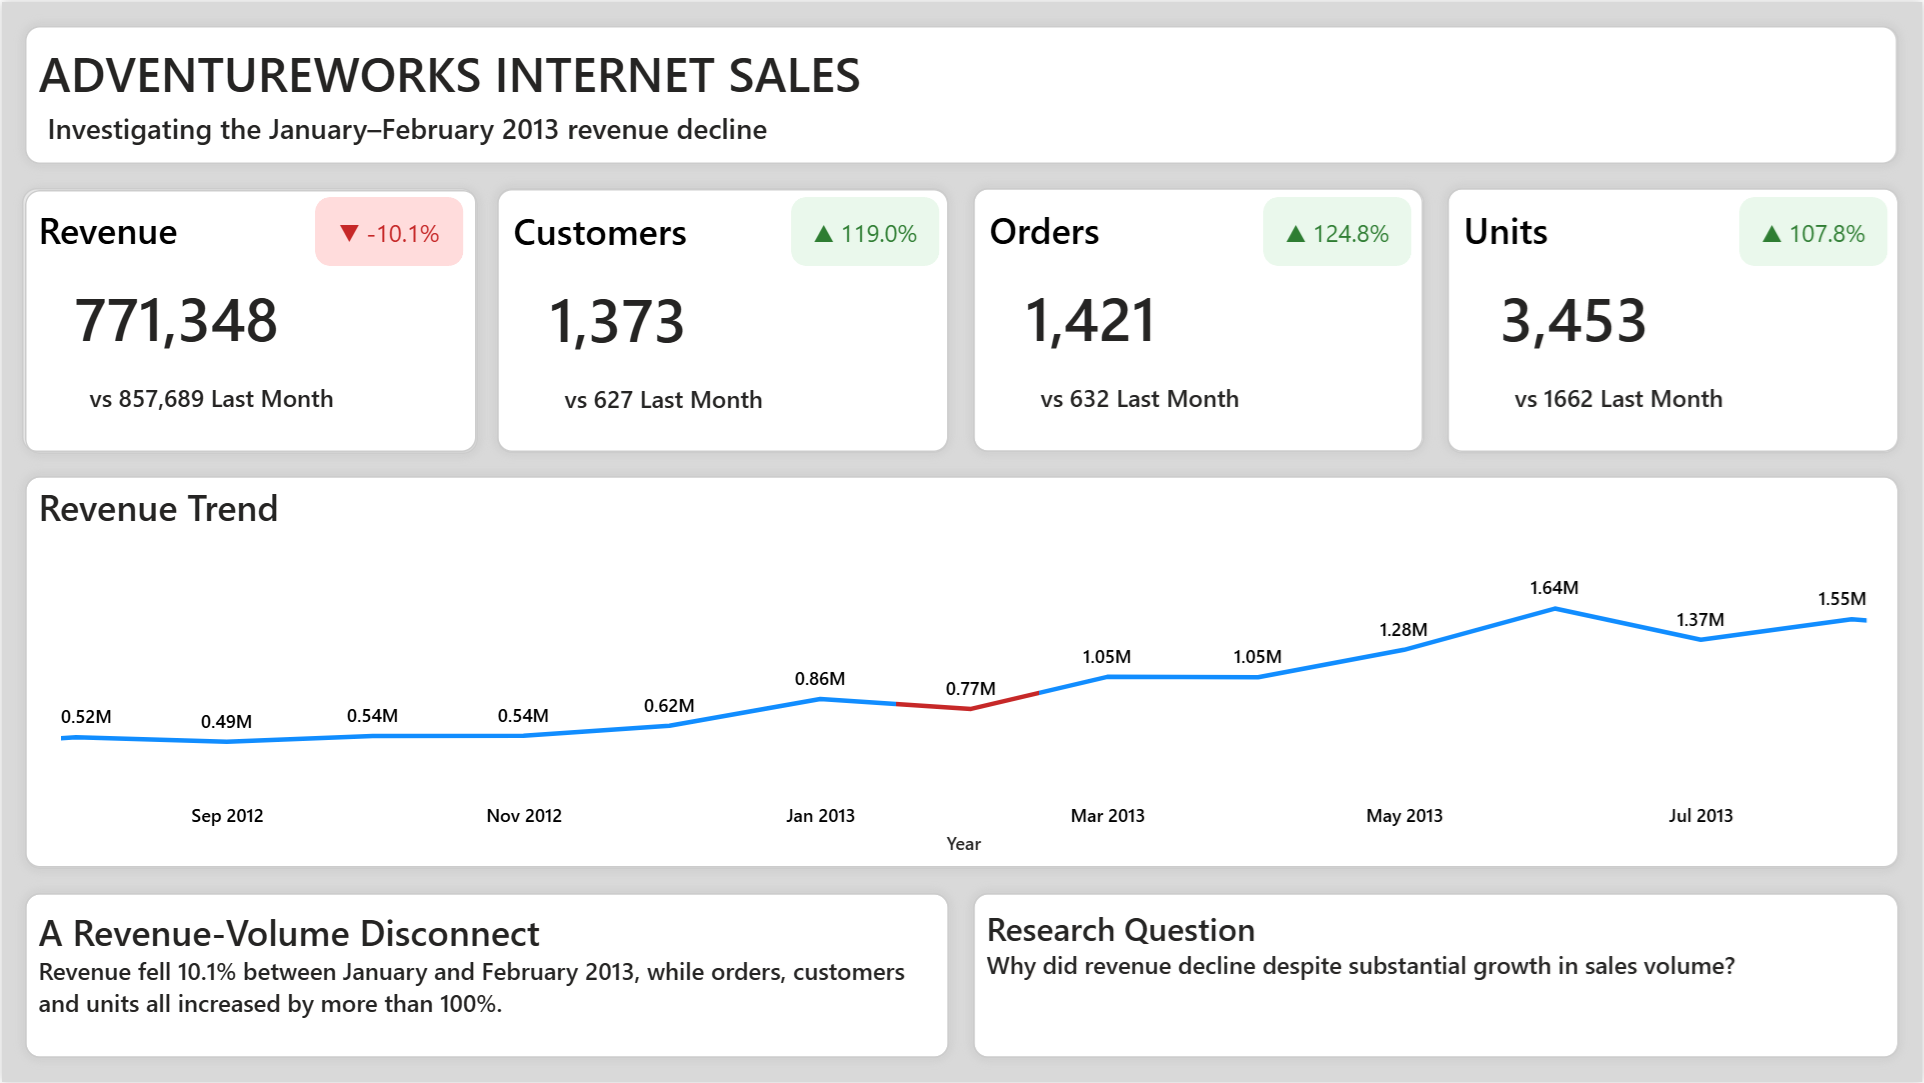

The dashboard page shown, as its layout file describes it:
{"tool":"powerbi","page":{"name":"Page 1","canvas":[1280,720],"ordinal":0},"visuals":[{"type":"cardVisual","title":"Revenue","fields":{"Data":["page_1_initial_exploration.revenue feb"]},"box":[13.5,123.9,302.6,176.1],"z":0},{"type":"shape","box":[15.3,125.3,302,176],"z":500},{"type":"cardVisual","title":"Customers","fields":{"Data":["page_1_initial_exploration.customers feb"]},"box":[330,124.7,301.3,176],"z":1000},{"type":"shape","box":[330,124,301.2,176],"z":3000},{"type":"shape","box":[208.7,130,99,46],"z":5000},{"type":"shape","box":[526,130,99,46],"z":6000},{"type":"cardVisual","title":"Orders","fields":{"Data":["page_1_initial_exploration.orders feb"]},"box":[647.3,124,300.7,176],"z":7000},{"type":"lineChart","title":"Revenue Trend","fields":{"Y":["page_1_initial_exploration.revenue plot"],"Category":["page_1_initial_exploration.Date.Variation.Date Hierarchy.Year","page_1_initial_exploration.Date.Variation.Date Hierarchy.Month"]},"box":[15,315.7,1248.6,261.4],"z":8000},{"type":"shape","box":[647.4,124.2,300,175.8],"z":9000},{"type":"cardVisual","title":"Units","fields":{"Data":["page_1_initial_exploration.units feb"]},"box":[963.3,124,300.7,176.7],"z":10000},{"type":"shape","box":[963.2,124.2,301.1,175.8],"z":11000},{"type":"shape","box":[840.7,130,99,46],"z":12000},{"type":"shape","box":[15.3,16,1248.7,92],"z":12125},{"type":"textbox","box":[15.3,594,616,110],"z":12250},{"type":"textbox","box":[15.3,16,1248,92],"z":12312},{"type":"shape","box":[15,594.3,616.4,110],"z":12500},{"type":"shape","box":[1158,130,99,46],"z":13000},{"type":"textbox","box":[647.3,594,616.7,110],"z":17500},{"type":"shape","box":[15.3,316,1249.3,262],"z":19500},{"type":"shape","box":[647.3,594,616.7,110],"z":20000}]}

Visuals, with their boxes in screenshot pixels (x1, y1, x2, y2), scaled from the page's 1280x720 canvas onto the 1924x1083 screenshot:
"Revenue" cardVisual: (left=20, top=186, right=475, bottom=451)
shape: (left=23, top=188, right=477, bottom=453)
"Customers" cardVisual: (left=496, top=188, right=949, bottom=452)
shape: (left=496, top=187, right=949, bottom=451)
shape: (left=314, top=196, right=463, bottom=265)
shape: (left=791, top=196, right=939, bottom=265)
"Orders" cardVisual: (left=973, top=187, right=1425, bottom=451)
"Revenue Trend" lineChart: (left=23, top=475, right=1899, bottom=868)
shape: (left=973, top=187, right=1424, bottom=451)
"Units" cardVisual: (left=1448, top=187, right=1900, bottom=452)
shape: (left=1448, top=187, right=1900, bottom=451)
shape: (left=1264, top=196, right=1412, bottom=265)
shape: (left=23, top=24, right=1900, bottom=162)
textbox: (left=23, top=893, right=949, bottom=1059)
textbox: (left=23, top=24, right=1899, bottom=162)
shape: (left=23, top=894, right=949, bottom=1059)
shape: (left=1741, top=196, right=1889, bottom=265)
textbox: (left=973, top=893, right=1900, bottom=1059)
shape: (left=23, top=475, right=1901, bottom=869)
shape: (left=973, top=893, right=1900, bottom=1059)
